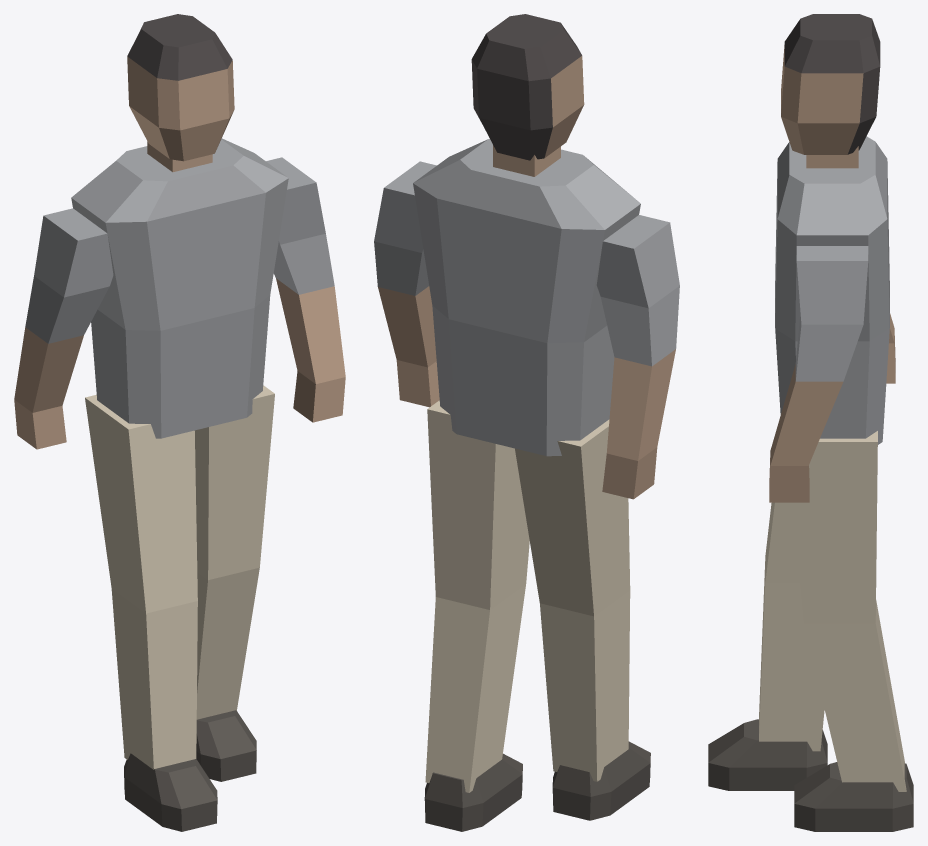
Rendered from pedestrian_2.fbx.
3 renders of one model, left to right at view 1: azimuth 30°, elevation 25°; view 2: azimuth 150°, elevation 25°; view 3: azimuth 270°, elevation 25°, orthographic. The views are drawn at different scales.
Visible parts, largest first — view 1: pedestrian_2; view 2: pedestrian_2; view 3: pedestrian_2.
Part boxes in pixels (x1,y1,x2,y2): pedestrian_2: [14, 14, 345, 831]; pedestrian_2: [374, 14, 679, 831]; pedestrian_2: [708, 14, 913, 831].
Bounding box in the file's own units: 0.688 × 1.78 × 0.43.
